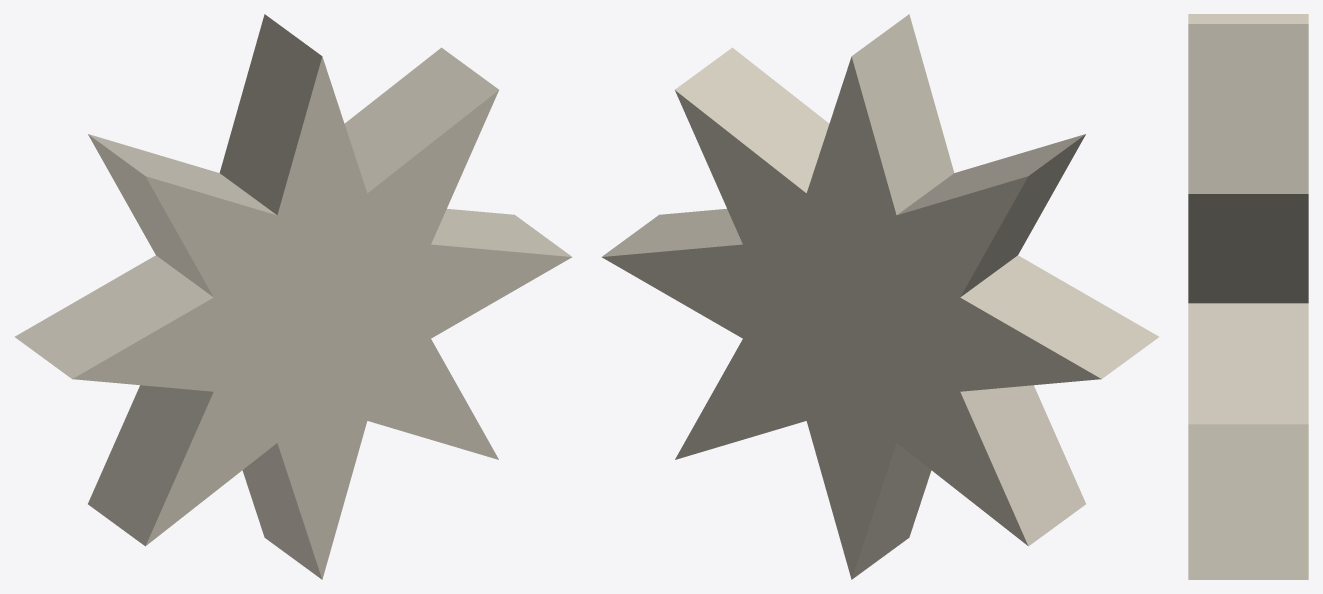
The model's file is stamp.glb.
The picture shows the model from 3 angles, left to right: view 1: azimuth 30°, elevation 25°; view 2: azimuth 150°, elevation 25°; view 3: azimuth 270°, elevation 25°; orthographic projection. The views are drawn at different scales.
Visible parts, largest first — view 1: stamp; view 2: stamp; view 3: stamp.
Boxes of the visible parts, left/top/right/bottom form: stamp: left=15, top=14, right=571, bottom=579; stamp: left=602, top=14, right=1158, bottom=579; stamp: left=1188, top=14, right=1308, bottom=579.
Bounding box in the file's own units: 0.36 × 0.36 × 0.072.
